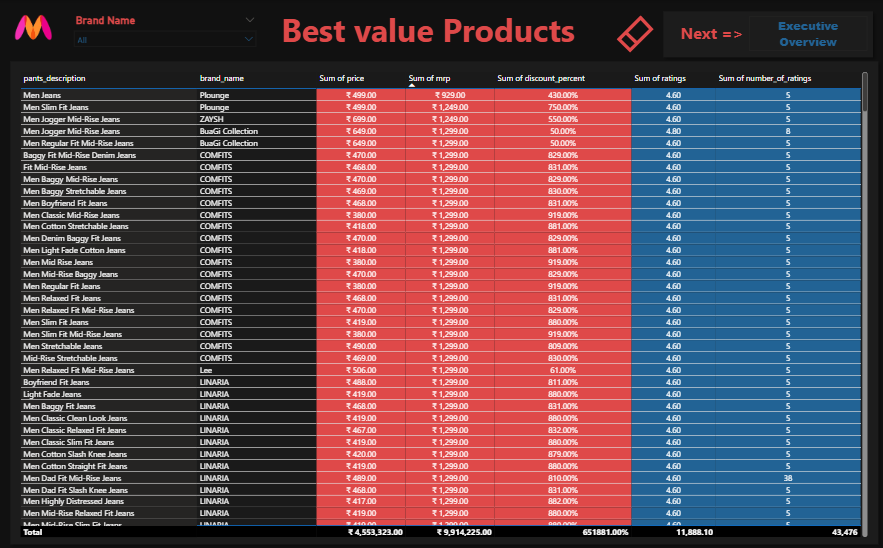

The page's visual inventory and layout, read from the dashboard file:
{"tool":"powerbi","page":{"name":"Best value Products ","canvas":[1480,920],"ordinal":3},"visuals":[{"type":"shape","box":[10,94.3,1470,825.7],"z":0},{"type":"shape","box":[1102.5,10,368.8,95],"z":1000},{"type":"textbox","box":[466.3,5.9,501.9,86.9],"z":2000},{"type":"slicer","fields":{"Values":["myntra_cleaned.brand_name"]},"box":[115,18.3,325,71.7],"z":3000},{"type":"textbox","box":[1112.5,31.2,161.2,55],"z":4000},{"type":"actionButton","box":[1028.8,22.5,73.8,71.2],"z":5000},{"type":"tableEx","fields":{"Values":["myntra_cleaned.pants_description","myntra_cleaned.brand_name","Sum(myntra_cleaned.price)","Sum(myntra_cleaned.mrp)","Sum(myntra_cleaned.discount_percent)","Sum(myntra_cleaned.ratings)","Sum(myntra_cleaned.number_of_ratings)"]},"box":[30,115,1428.3,788.3],"z":6000},{"type":"pageNavigator","box":[1255,27.5,198.8,58.8],"z":7000},{"type":"image","box":[10,10,94.5,70.9],"z":7001}]}

Visuals, with their boxes in screenshot pixels (x1, y1, x2, y2), scaled from the page's 1480x920 canvas onto the 883x548 screenshot:
shape: <bbox>6, 56, 882, 547</bbox>
shape: <bbox>658, 6, 878, 63</bbox>
textbox: <bbox>278, 4, 578, 55</bbox>
slicer - myntra_cleaned.brand_name: <bbox>69, 11, 263, 54</bbox>
textbox: <bbox>664, 19, 760, 51</bbox>
actionButton: <bbox>614, 13, 658, 56</bbox>
tableEx - myntra_cleaned.pants_description x myntra_cleaned.brand_name: <bbox>18, 68, 870, 538</bbox>
pageNavigator: <bbox>749, 16, 867, 51</bbox>
image: <bbox>6, 6, 62, 48</bbox>
